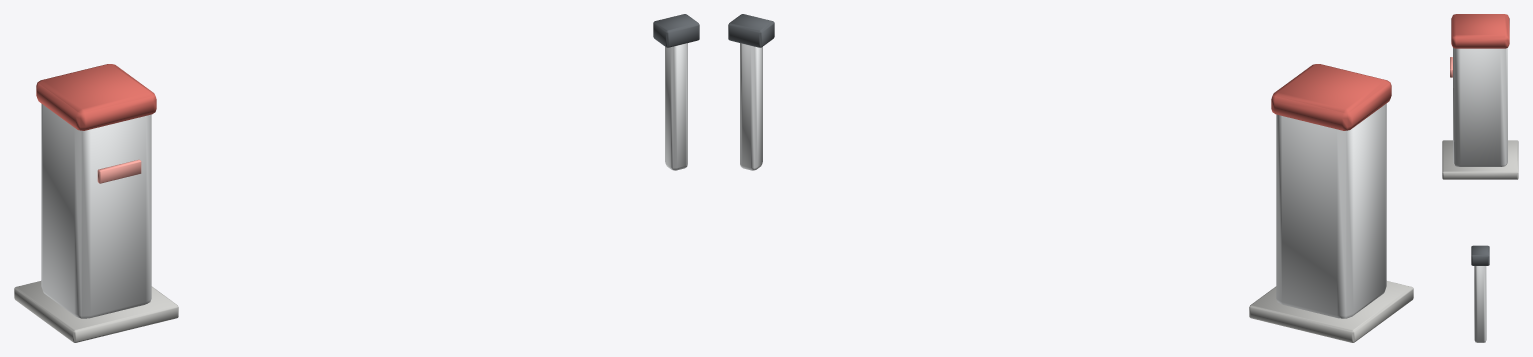
The model's file is barrier_post.glb.
3 views of the same model, side by side, from view 1: azimuth 30°, elevation 25°; view 2: azimuth 150°, elevation 25°; view 3: azimuth 270°, elevation 25° (orthographic). The views are drawn at different scales.
Visible parts, largest first — view 1: Body; view 2: Body; view 3: Body.
Boxes of the visible parts, box(x1,y1,x2,y2) form: Body: box(14, 14, 699, 342); Body: box(728, 14, 1413, 342); Body: box(1442, 14, 1518, 342).
Bounding box in the file's own units: 3.08 × 1.01 × 0.5.
